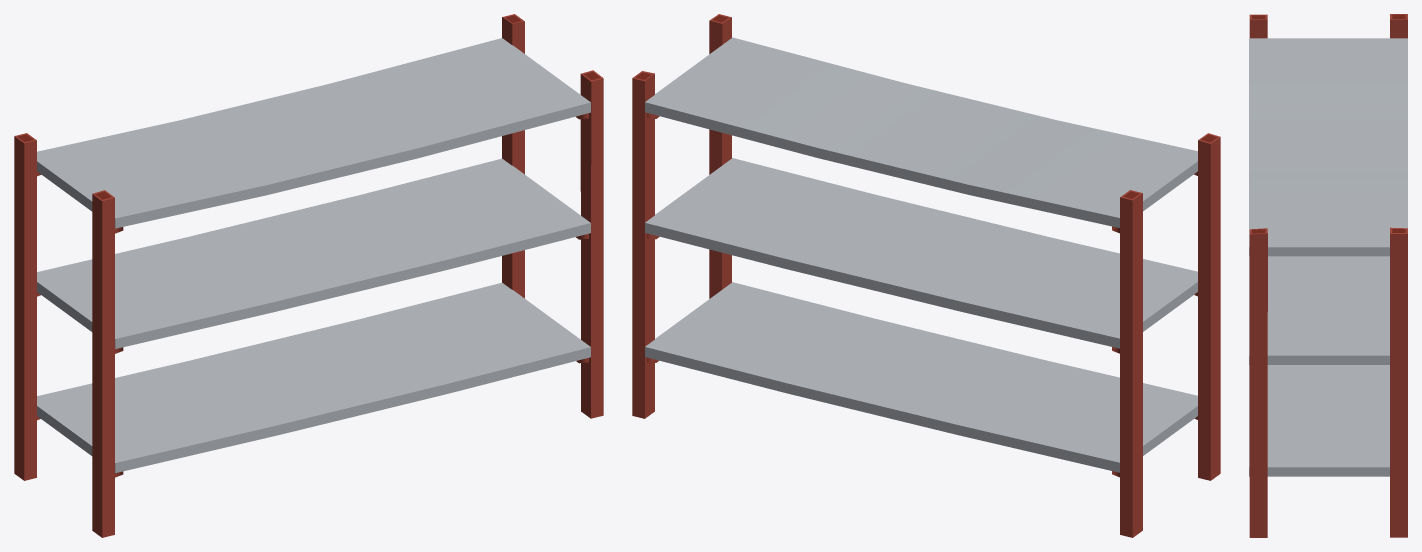
The model's file is SM_Prop_Shop_Shelf_Basic_01.glb.
3 views of the same model, side by side, from view 1: azimuth 30°, elevation 25°; view 2: azimuth 150°, elevation 25°; view 3: azimuth 270°, elevation 25° (orthographic). The views are drawn at different scales.
Visible parts, largest first — view 1: SM_Prop_Shop_Shelf_Basic_01; view 2: SM_Prop_Shop_Shelf_Basic_01; view 3: SM_Prop_Shop_Shelf_Basic_01.
Boxes of the visible parts, x1,y1,x2,y2 form: SM_Prop_Shop_Shelf_Basic_01: (14, 14, 603, 537); SM_Prop_Shop_Shelf_Basic_01: (632, 14, 1220, 537); SM_Prop_Shop_Shelf_Basic_01: (1249, 14, 1407, 537).
Bounding box in the file's own units: 2.93 × 1.89 × 0.8929.
Materials: 1 (1 with a texture image).
